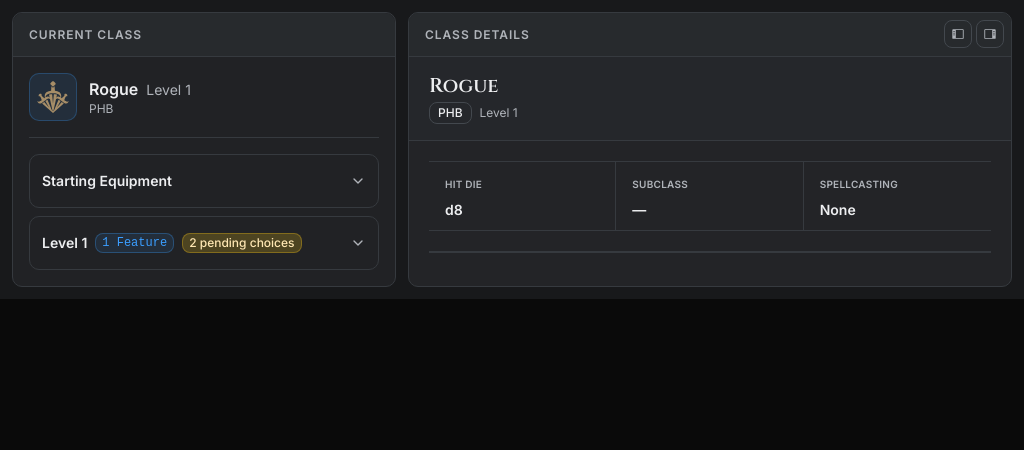
Test case: Class proficiency hint appears only while actual proficiency choices remain, independent of unfinished Expertise
Click the button "Level 1 1 Feature 2 pending choices": [204, 243] box [30,217,378,269]
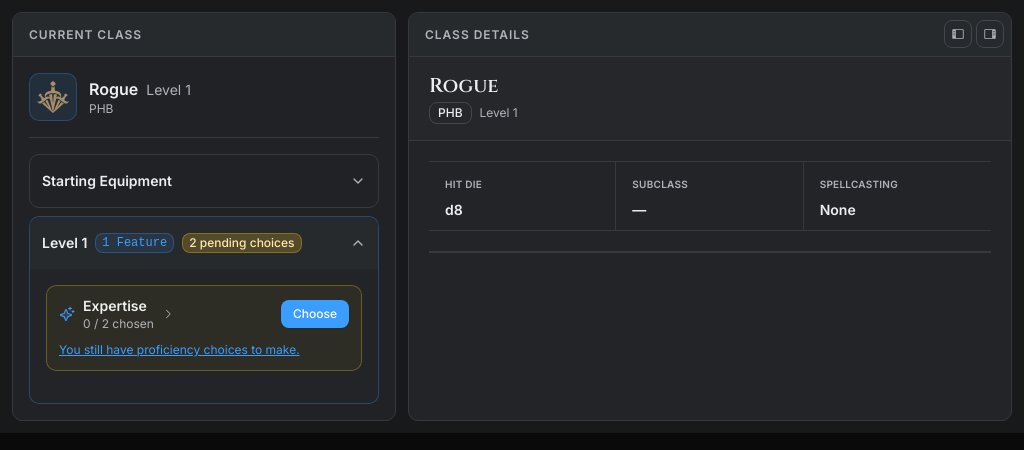
Now the text "0 / 2 chosen" is shown, box [83,316,154,332]
Now the link "You still have proficiency choices to make." is shown, box [59,342,300,357]
